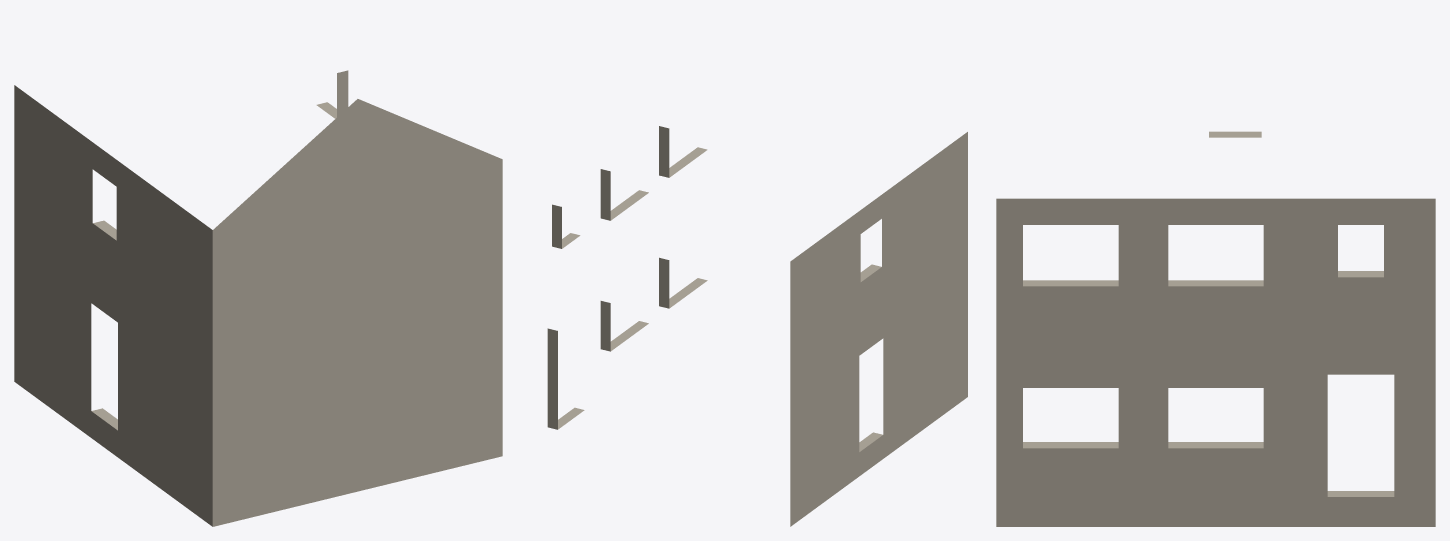
File: SM_Bld_151_Render.glb
The picture shows the model from 3 angles, left to right: view 1: azimuth 30°, elevation 25°; view 2: azimuth 150°, elevation 25°; view 3: azimuth 270°, elevation 25°; orthographic projection. The views are drawn at different scales.
Visible parts, largest first — view 1: SM_Bld_151_Render; view 2: SM_Bld_151_Render; view 3: SM_Bld_151_Render.
Boxes of the visible parts, x1,y1,x2,y2 form: SM_Bld_151_Render: (14, 70, 502, 526); SM_Bld_151_Render: (547, 126, 967, 526); SM_Bld_151_Render: (996, 131, 1435, 526).
Bounding box in the file's own units: 5.62 × 7.28 × 6.67.
